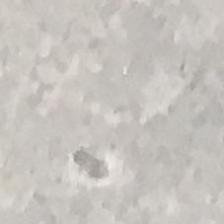Non_Crack: (33, 9, 215, 133)
